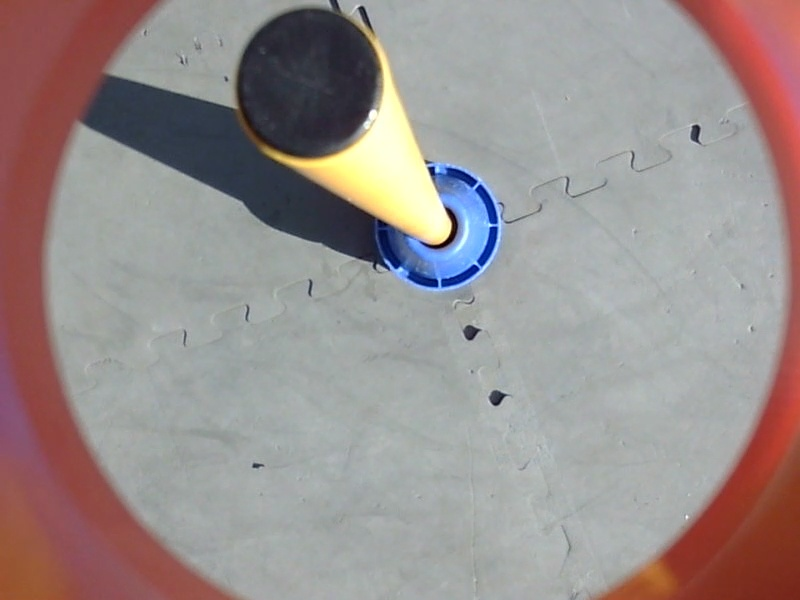tip: (227, 1, 394, 172)
